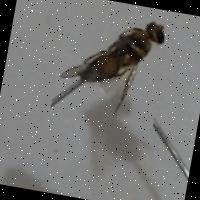Oriental-fruit-fly: (50, 3, 171, 125)
